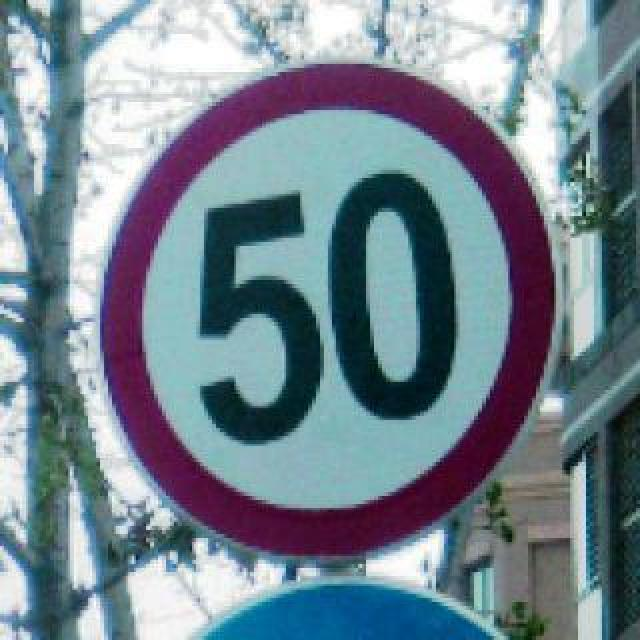50 kph: (90, 52, 560, 564)
